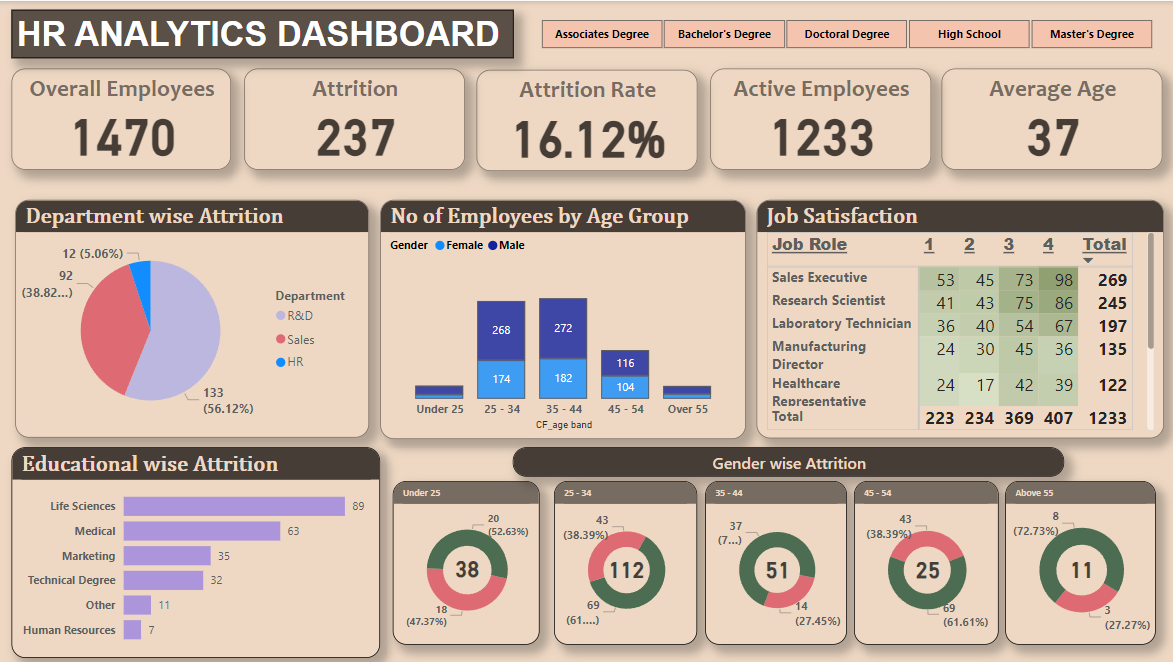

The page's visual inventory and layout, read from the dashboard file:
{"tool":"powerbi","page":{"name":"Page 1","canvas":[1280,720],"ordinal":0},"visuals":[{"type":"card","title":"Overall Employees","fields":{"Values":["Sum(HR data.Employee Count)"]},"box":[13.8,73,239.5,110.1],"z":0},{"type":"card","title":"Attrition","fields":{"Values":["Sum(HR data.Attrition Count)"]},"box":[267.1,73,240.9,110.1],"z":1000},{"type":"card","title":"Attrition Rate","fields":{"Values":["HR data.AttritionRate"]},"box":[520.4,74.3,240.9,110.1],"z":2000},{"type":"card","title":"Active Employees","fields":{"Values":["HR data.ActiveEmployees"]},"box":[775.1,73,240.9,110.1],"z":3000},{"type":"card","title":"Average Age ","fields":{"Values":["Avg(HR data.Age)"]},"box":[1027,73,240.9,110.1],"z":4000},{"type":"pieChart","title":"Department wise Attrition","fields":{"Category":["HR data.Department"],"Y":["Sum(HR data.Attrition Count)"]},"box":[18.1,217.1,385.5,258.8],"z":5000},{"type":"columnChart","title":"No of Employees by Age Group","fields":{"Category":["HR data.CF_age band"],"Series":["HR data.Gender"],"Y":["HR data.ActiveEmployees"]},"box":[415.9,216.8,398.1,260.4],"z":6000},{"type":"pivotTable","title":"Job Satisfaction","fields":{"Columns":["HR data.Job Satisfaction"],"Rows":["HR data.Job Role"],"Values":["HR data.ActiveEmployees"]},"box":[825.2,217.1,443.9,260.2],"z":7000},{"type":"barChart","title":"Educational wise Attrition","fields":{"Category":["HR data.Education Field"],"Y":["Sum(HR data.Attrition Count)"]},"box":[13.6,486,401.9,229.4],"z":8000},{"type":"donutChart","title":"Under 25","fields":{"Y":["Sum(HR data.Attrition Count)"],"Category":["HR data.Gender"],"Series":["HR data.CF_age band"]},"box":[428.6,523.2,160,178.1],"z":9000},{"type":"textbox","title":"Gender wise Attrition","box":[559.4,485.7,601.2,32],"z":10000},{"type":"donutChart","title":"25 - 34","fields":{"Y":["Sum(HR data.Attrition Count)"],"Category":["HR data.Gender"],"Series":["HR data.CF_age band"]},"box":[605.4,523.2,155.9,178.1],"z":11000},{"type":"donutChart","title":"35 - 44","fields":{"Y":["Sum(HR data.Attrition Count)"],"Category":["HR data.Gender"],"Series":["HR data.CF_age band"]},"box":[769.6,523.2,154.5,178.1],"z":12000},{"type":"donutChart","title":"45 - 54","fields":{"Y":["Sum(HR data.Attrition Count)"],"Category":["HR data.Gender"],"Series":["HR data.CF_age band"]},"box":[931,523.2,157.3,178.1],"z":13000},{"type":"donutChart","title":"Above 55","fields":{"Y":["Sum(HR data.Attrition Count)"],"Category":["HR data.Gender"],"Series":["HR data.CF_age band"]},"box":[1096.6,523.2,164.2,178.1],"z":14000},{"type":"textbox","box":[13.9,9.7,546.9,52.9],"z":15000},{"type":"card","fields":{"Values":["Sum(HR data.Attrition Count)"]},"box":[491.2,604,37.6,30.6],"z":16000},{"type":"card","fields":{"Values":["Sum(HR data.Attrition Count)"]},"box":[658.2,605.4,51.5,29.2],"z":17000},{"type":"card","fields":{"Values":["Sum(HR data.Attrition Count)"]},"box":[829.4,605.4,37.6,30.6],"z":18000},{"type":"card","fields":{"Values":["Sum(HR data.Attrition Count)"]},"box":[992.2,605.4,39,30.6],"z":19000},{"type":"card","fields":{"Values":["Sum(HR data.Attrition Count)"]},"box":[1160.6,605.4,39,29.2],"z":20000},{"type":"slicer","fields":{"Values":["HR data.Education"]},"box":[564.7,13.9,715.3,44.5],"z":21000}]}

Visuals, with their boxes in screenshot pixels (x1, y1, x2, y2), scaled from the page's 1280x720 canvas onto the 1173x662 screenshot:
"Overall Employees" card: box=[13, 67, 232, 168]
"Attrition" card: box=[245, 67, 466, 168]
"Attrition Rate" card: box=[477, 68, 698, 170]
"Active Employees" card: box=[710, 67, 931, 168]
"Average Age " card: box=[941, 67, 1162, 168]
"Department wise Attrition" pieChart: box=[17, 200, 370, 438]
"No of Employees by Age Group" columnChart: box=[381, 199, 746, 439]
"Job Satisfaction" pivotTable: box=[756, 200, 1163, 439]
"Educational wise Attrition" barChart: box=[12, 447, 381, 658]
"Under 25" donutChart: box=[393, 481, 539, 645]
"Gender wise Attrition" textbox: box=[513, 447, 1064, 476]
"25 - 34" donutChart: box=[555, 481, 698, 645]
"35 - 44" donutChart: box=[705, 481, 847, 645]
"45 - 54" donutChart: box=[853, 481, 997, 645]
"Above 55" donutChart: box=[1005, 481, 1155, 645]
textbox: box=[13, 9, 514, 58]
card - Sum(HR data.Attrition Count): box=[450, 555, 485, 583]
card - Sum(HR data.Attrition Count): box=[603, 557, 650, 583]
card - Sum(HR data.Attrition Count): box=[760, 557, 795, 585]
card - Sum(HR data.Attrition Count): box=[909, 557, 945, 585]
card - Sum(HR data.Attrition Count): box=[1064, 557, 1099, 583]
slicer - HR data.Education: box=[517, 13, 1172, 54]
